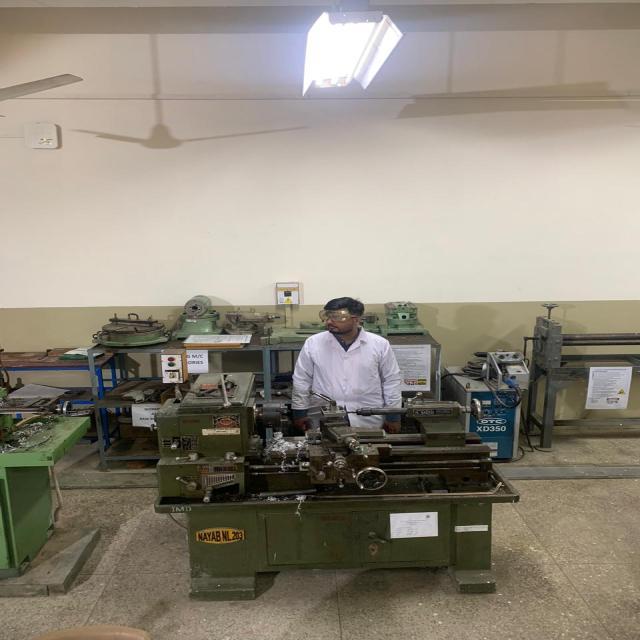googles: (317, 308, 367, 326)
labcoat: (290, 323, 404, 431)
